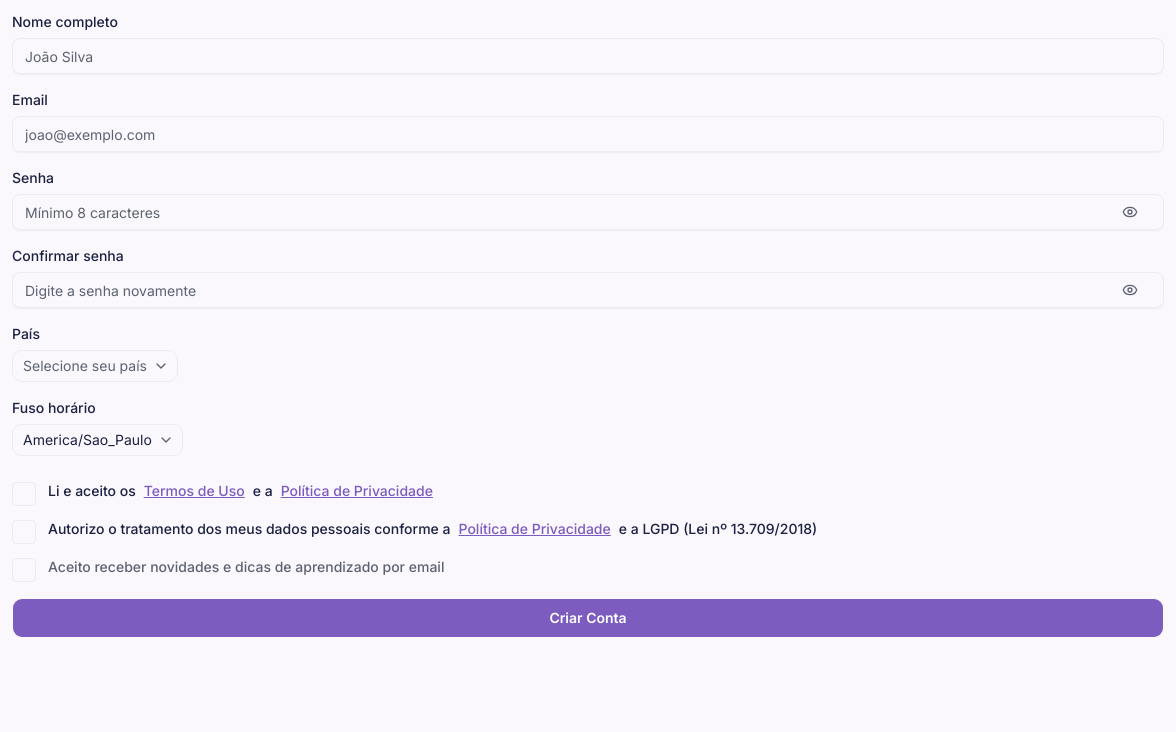
Test: RegisterForm › exibe erros de validação quando formulário é submetido vazio
This screenshot has width=1176, height=732.
Click the button "Criar Conta".
click(588, 618)  # box [12,598,1164,638]
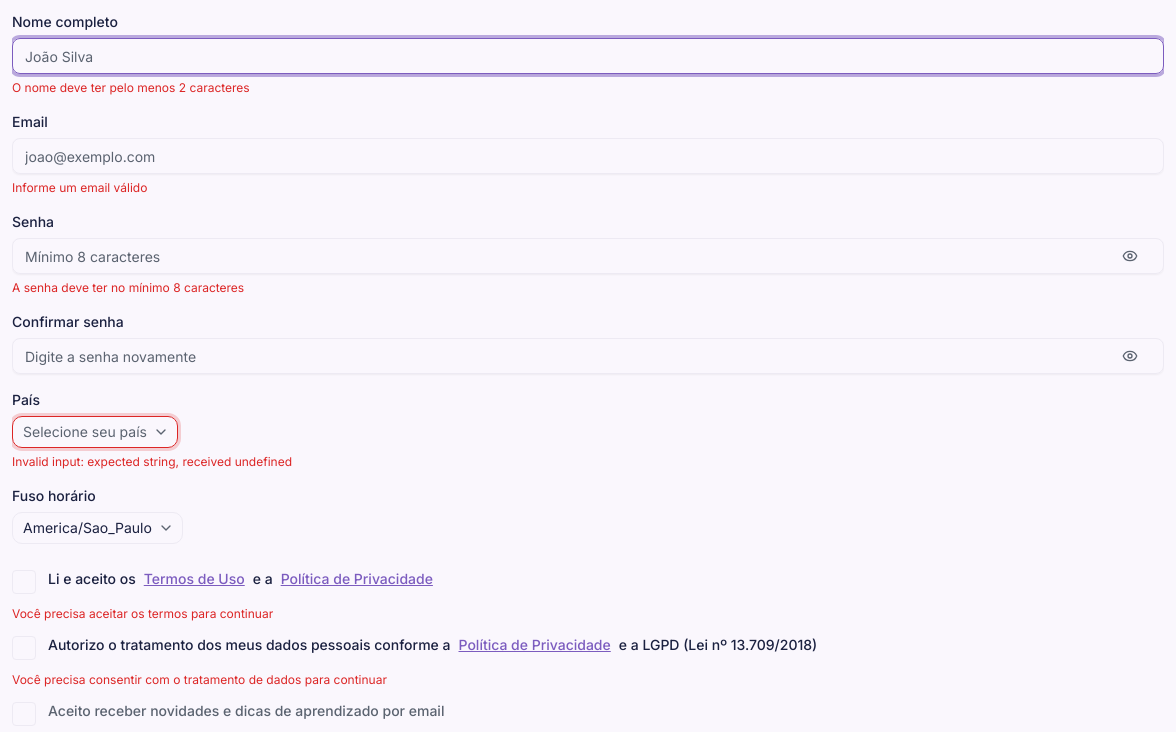
Now the message "O nome deve ter pelo menos 2 caracteres" is shown, box [12,80,250,95]
